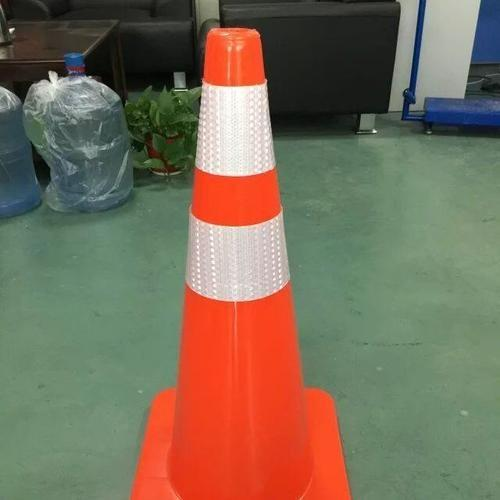cone_barrel: (149, 26, 329, 498)
